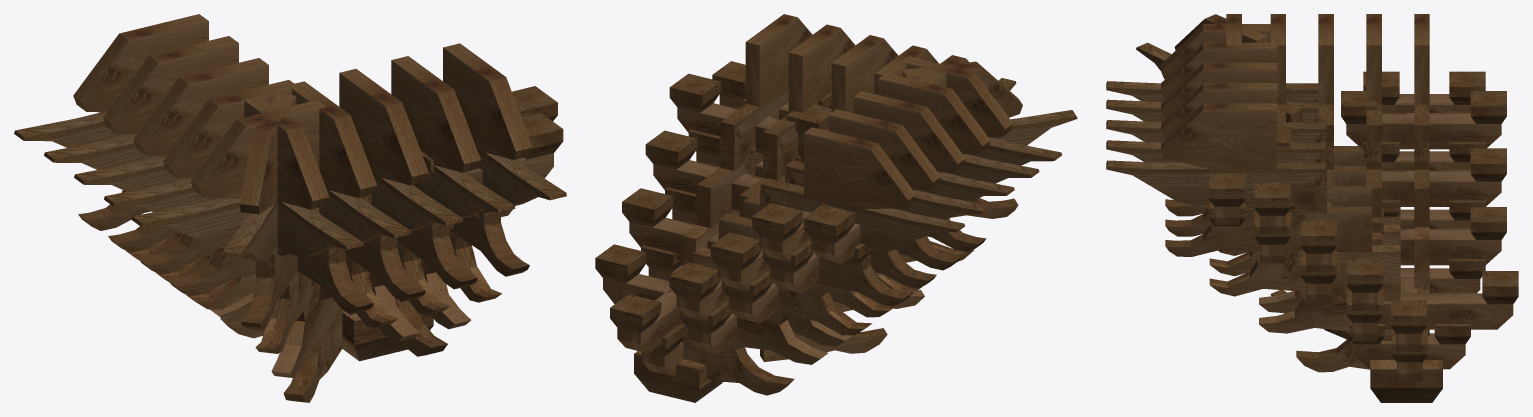
Rendered from SM_Sun_Gate_Gongpo_B.fbx.
3 views of the same model, side by side, from view 1: azimuth 30°, elevation 25°; view 2: azimuth 150°, elevation 25°; view 3: azimuth 270°, elevation 25° (orthographic). The views are drawn at different scales.
Parts seen in each view (by area): view 1: SM_Sun_Gate_Gongpo_B; view 2: SM_Sun_Gate_Gongpo_B; view 3: SM_Sun_Gate_Gongpo_B.
Boxes of the visible parts, bbox=[...] form: SM_Sun_Gate_Gongpo_B: bbox=[14, 14, 566, 402]; SM_Sun_Gate_Gongpo_B: bbox=[595, 14, 1077, 402]; SM_Sun_Gate_Gongpo_B: bbox=[1106, 14, 1518, 402].
Size of the model in its own units: 156 by 121 by 159.
